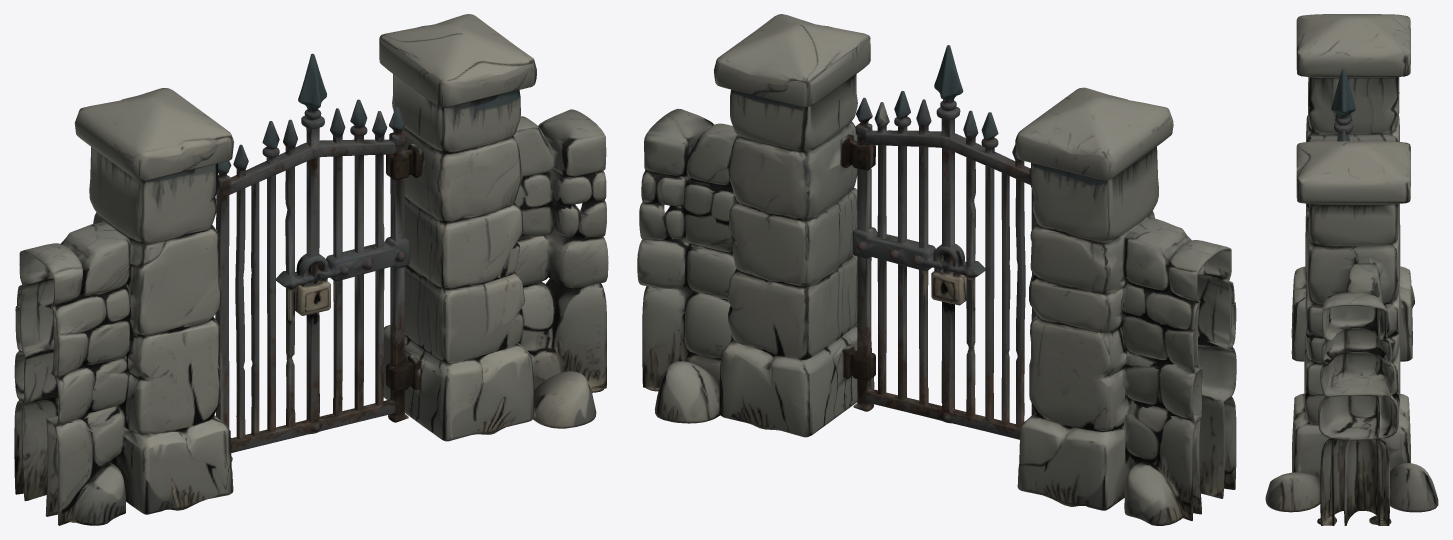
The model's file is island_gate.glb.
3 renders of one model, left to right at view 1: azimuth 30°, elevation 25°; view 2: azimuth 150°, elevation 25°; view 3: azimuth 270°, elevation 25°, orthographic. The views are drawn at different scales.
Visible parts, largest first — view 1: Frame, Leaf; view 2: Frame, Leaf; view 3: Frame, Leaf.
Part boxes in pixels (x1,y1,x2,y2): Frame: (14,14,608,525); Leaf: (215,53,418,461); Frame: (637,14,1236,525); Leaf: (844,45,1037,439); Frame: (1265,14,1438,525); Leaf: (1331,68,1355,141).
Size of the model in its own units: 0.9866 by 0.6735 by 0.3101.
1 material, 1 textured.
